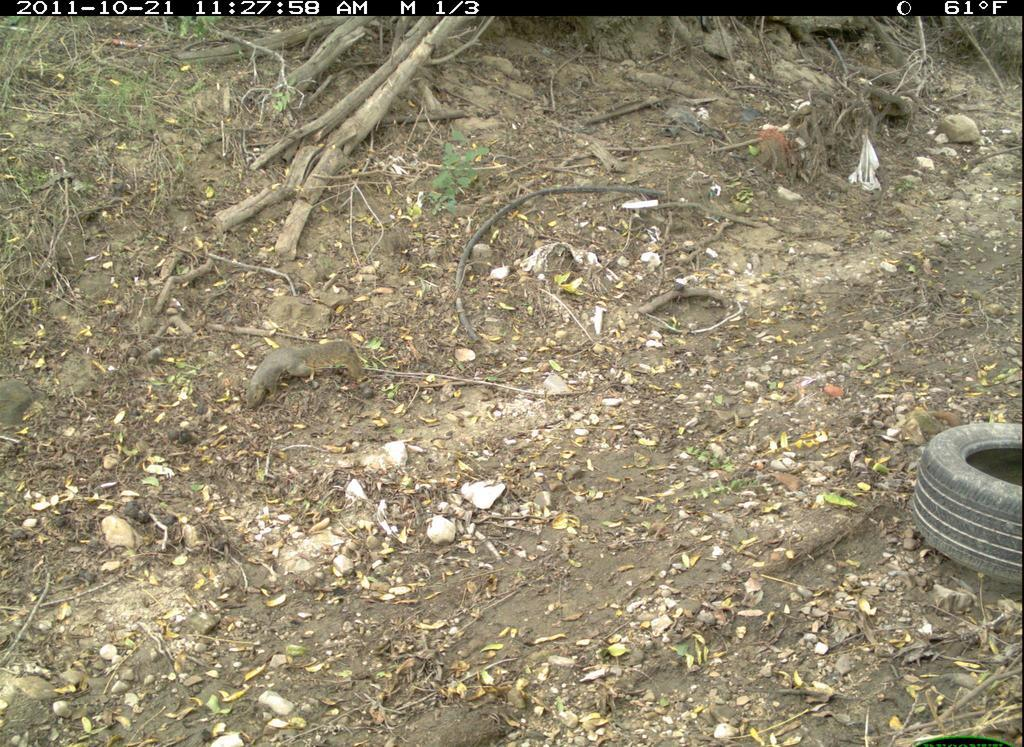squirrel: (226, 319, 388, 429)
